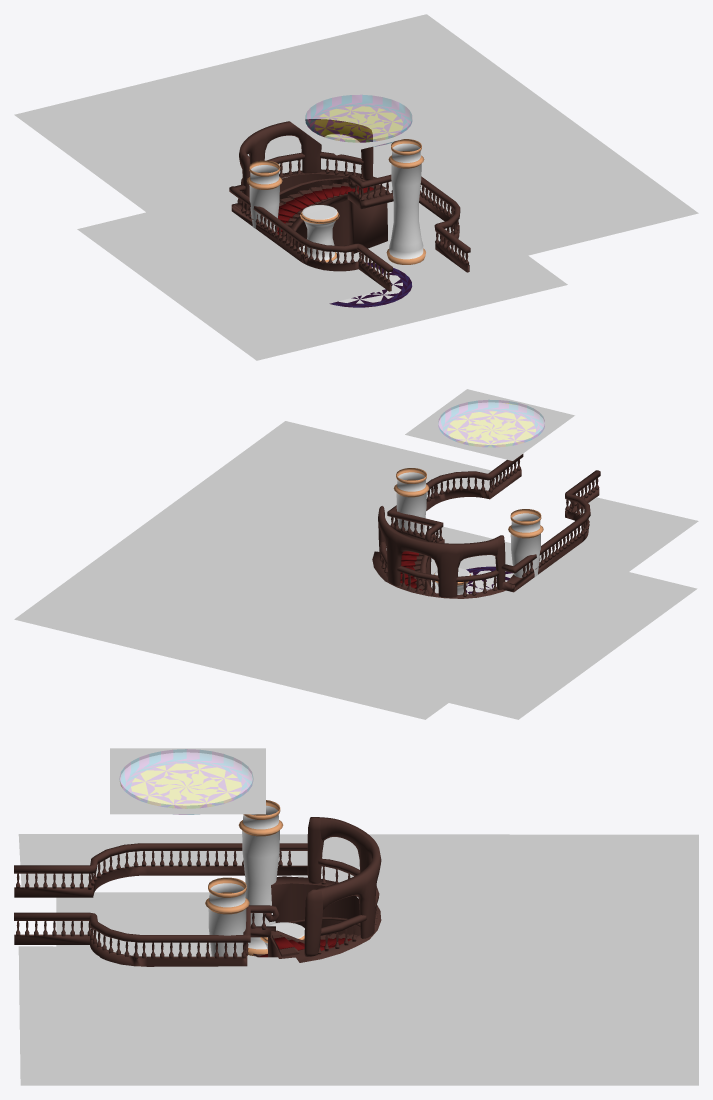
The model's file is hall 2.fbx.
3 views of the same model, one above another, from view 1: azimuth 30°, elevation 25°; view 2: azimuth 150°, elevation 25°; view 3: azimuth 270°, elevation 25° (orthographic). The views are drawn at different scales.
Visible parts, largest first — view 1: pisodos.061, pisodos.043, Cylinder.004, Plane.002, pisodos.001, pisodos.011, Cube.096, Plane, pisodos.008, pisodos.044, pisodos.026, Cylinder (+4 smaller); view 2: pisodos.061, pisodos.043, Cylinder.004, pisodos.011, Cube.096, Plane, pisodos.008, pisodos.001, pisodos.026, Plane.002, pisodos.006, Cube.083 (+1 smaller); view 3: pisodos.061, pisodos.043, Cube.096, Cylinder.004, pisodos.011, Plane, pisodos.008, Plane.002, pisodos.001, pisodos.026, pisodos.006, pisodos.004 (+1 smaller).
Part boxes in pixels (x1,y1,x2,y2): pisodos.061: (14,14,698,314); pisodos.043: (77,201,567,360); Cylinder.004: (305,95,411,146); Plane.002: (237,169,387,253); pisodos.001: (386,139,425,264); pisodos.011: (239,119,373,210); Cube.096: (347,174,470,272); Plane: (274,83,444,155); pisodos.008: (247,160,282,231); pisodos.044: (300,205,339,262); pisodos.026: (229,184,392,272); Cylinder: (329,262,412,307); pisodos.061: (14,421,698,719); pisodos.043: (424,525,697,719); Cylinder.004: (438,400,544,447); pisodos.011: (378,506,505,597); Cube.096: (387,454,523,543); Plane: (405,389,574,460); pisodos.008: (508,509,543,577); pisodos.001: (393,468,431,581); pisodos.026: (501,470,600,573); Plane.002: (372,551,520,598); pisodos.006: (502,510,588,592); Cube.083: (380,541,498,581); pisodos.061: (18,834,698,1085); pisodos.043: (56,892,256,957); Cube.096: (14,905,279,966); Cylinder.004: (119,749,252,814); pisodos.011: (304,817,381,956); Plane: (110,748,265,814); pisodos.008: (238,800,283,956); Plane.002: (268,876,381,962); pisodos.001: (205,877,249,956); pisodos.026: (14,843,307,873); pisodos.006: (91,865,307,895); pisodos.004: (14,887,93,897).
Size of the model in its own units: 5249 by 2027 by 5841.
